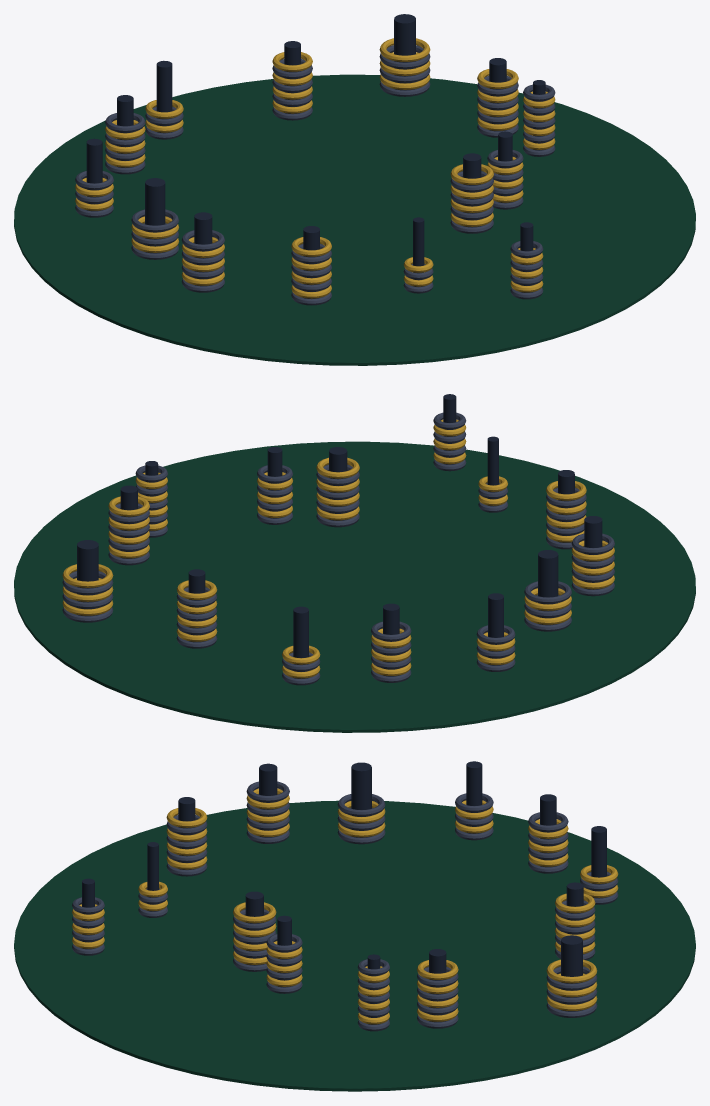
The model's file is backdrop_02.glb.
The picture shows the model from 3 angles, top to bottom: view 1: azimuth 30°, elevation 25°; view 2: azimuth 150°, elevation 25°; view 3: azimuth 270°, elevation 25°; orthographic projection.
Parts seen in each view (by area): view 1: backdrop_02; view 2: backdrop_02; view 3: backdrop_02.
Boxes of the visible parts, bbox=[...] form: backdrop_02: bbox=[14, 14, 695, 365]; backdrop_02: bbox=[14, 394, 695, 732]; backdrop_02: bbox=[14, 761, 695, 1091].
Bounding box in the file's own units: 80 × 11 × 80.
